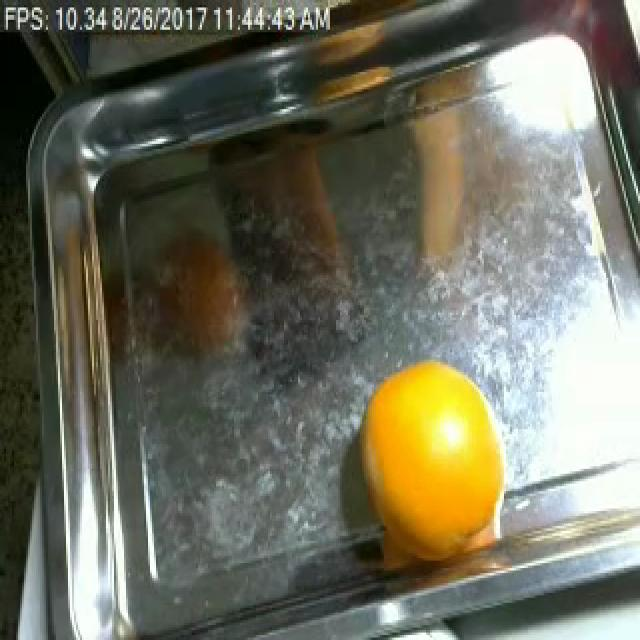Fruit: (344, 345, 524, 600)
